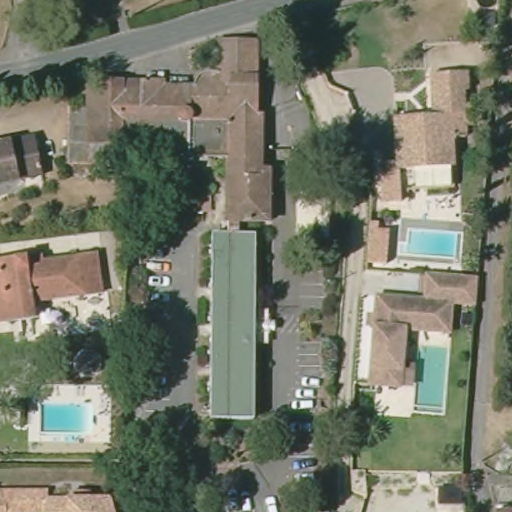pool: (397, 218, 468, 266), (37, 395, 108, 443), (412, 335, 454, 414)
